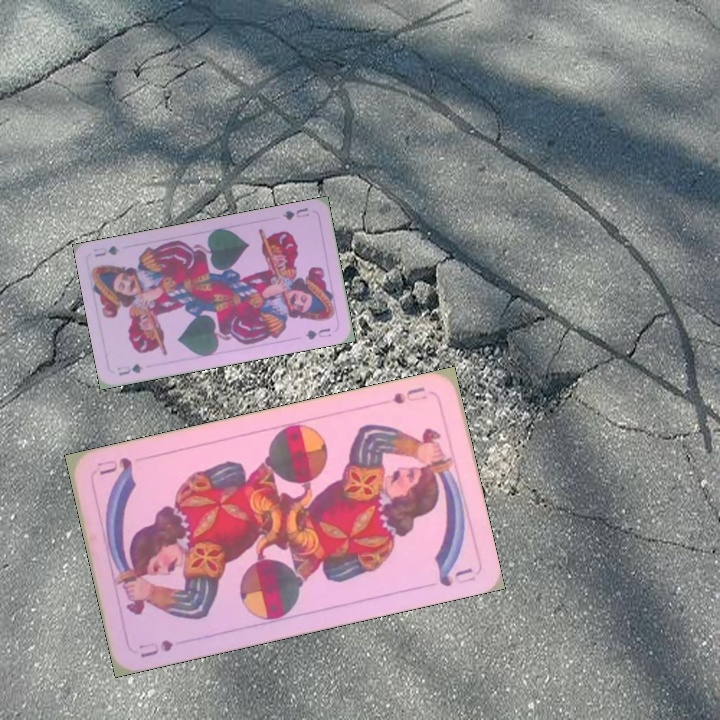GU: (279, 204, 312, 223), (113, 359, 146, 378)
SU: (134, 635, 176, 661), (388, 383, 430, 407)
